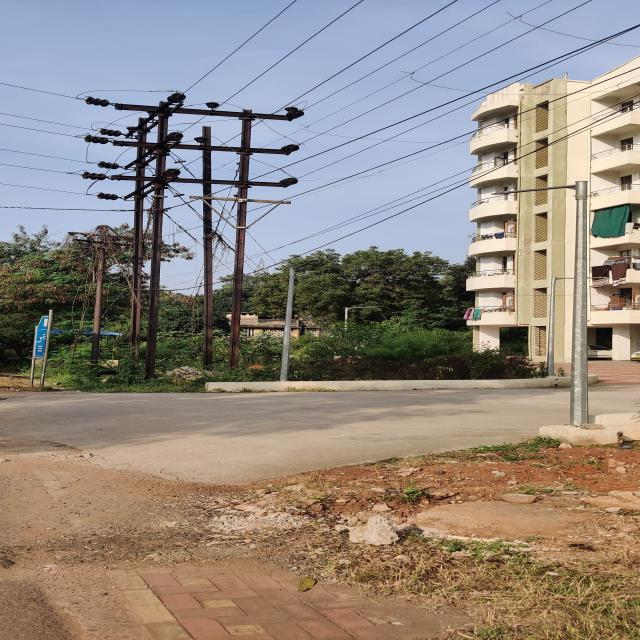Devakanchan tree: (289, 246, 447, 334)
